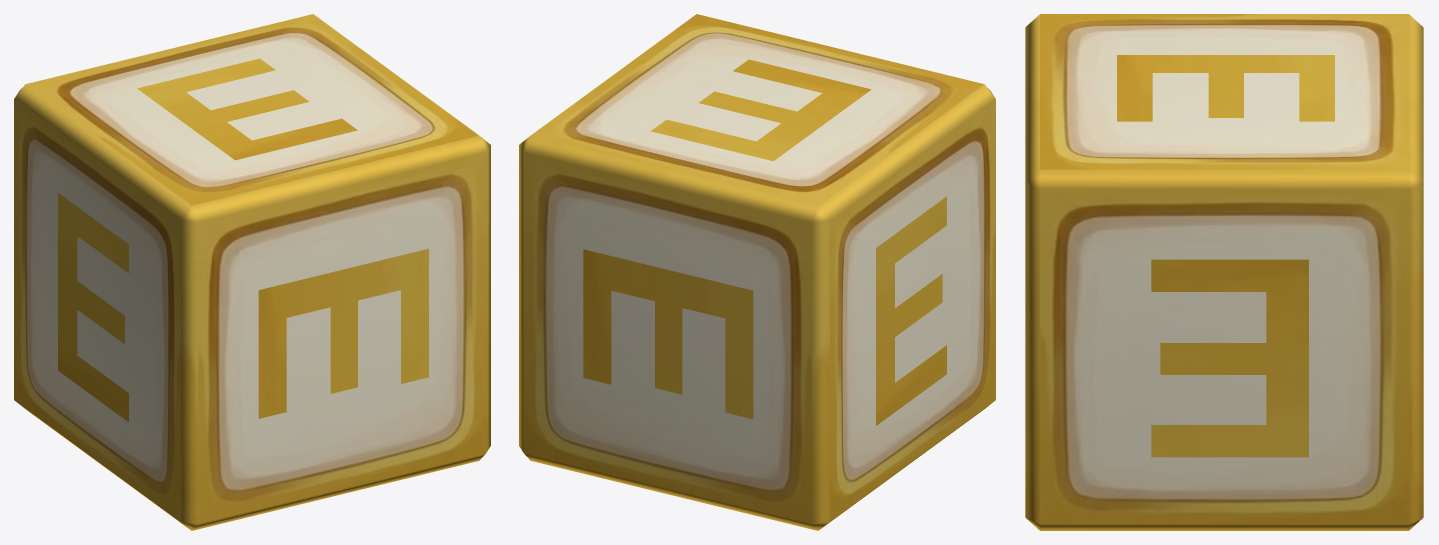
The model's file is CubeE.glb.
3 renders of one model, left to right at view 1: azimuth 30°, elevation 25°; view 2: azimuth 150°, elevation 25°; view 3: azimuth 270°, elevation 25°, orthographic. The views are drawn at different scales.
Parts seen in each view (by area): view 1: CubeE; view 2: CubeE; view 3: CubeE.
Part boxes in pixels (x1,y1,x2,y2): CubeE: [14, 14, 490, 530]; CubeE: [519, 14, 995, 530]; CubeE: [1025, 14, 1423, 530].
Size of what is drawn, in the model's own units: 0.5134 by 0.5134 by 0.5134.
1 material, 1 textured.
